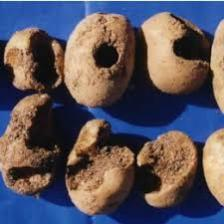Damaged potato: (62, 9, 135, 110), (61, 118, 134, 218), (0, 93, 65, 201), (137, 6, 210, 101), (135, 127, 197, 210), (4, 18, 63, 94)
